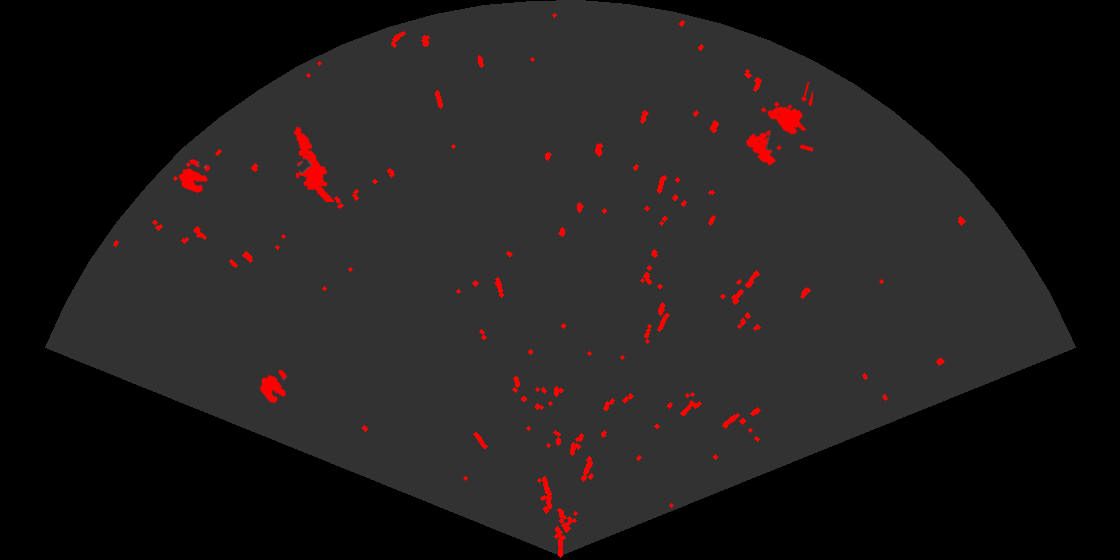ball: (177, 157, 212, 195), (258, 368, 288, 405)
cage: (744, 82, 813, 167)
frogman: (292, 125, 336, 202)
